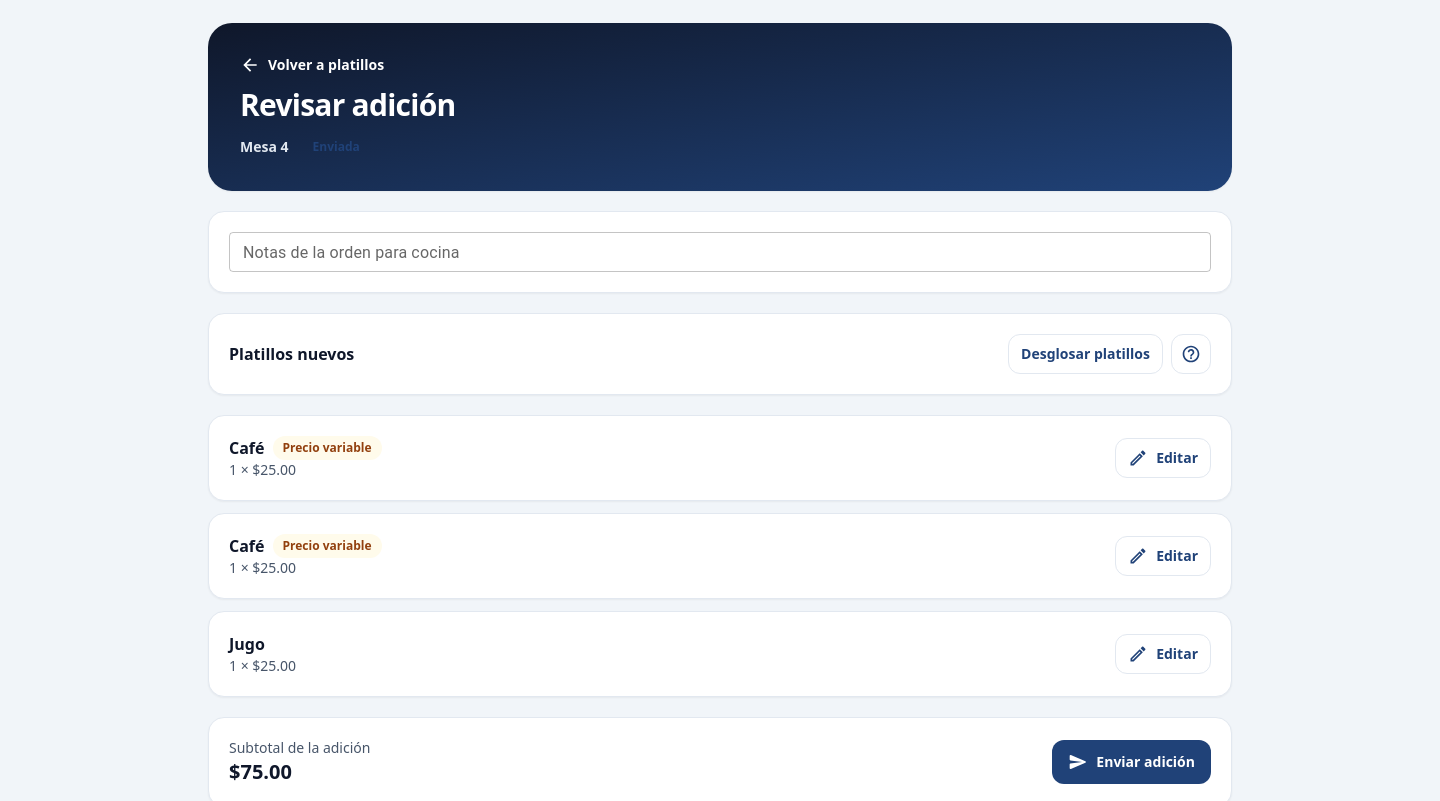
Scenario: preserves added dishes and their submission ID across review, back navigation and a retry
Earlier steps of the test are not shown.
Later steps or results of the test are not shown.
Check: the text "Precio variable" is shown 2 times, box [272,436,382,460]; [272,534,382,558]
Click the button "Desglosar platillos" at (1086, 354), box [1008,334,1163,374]
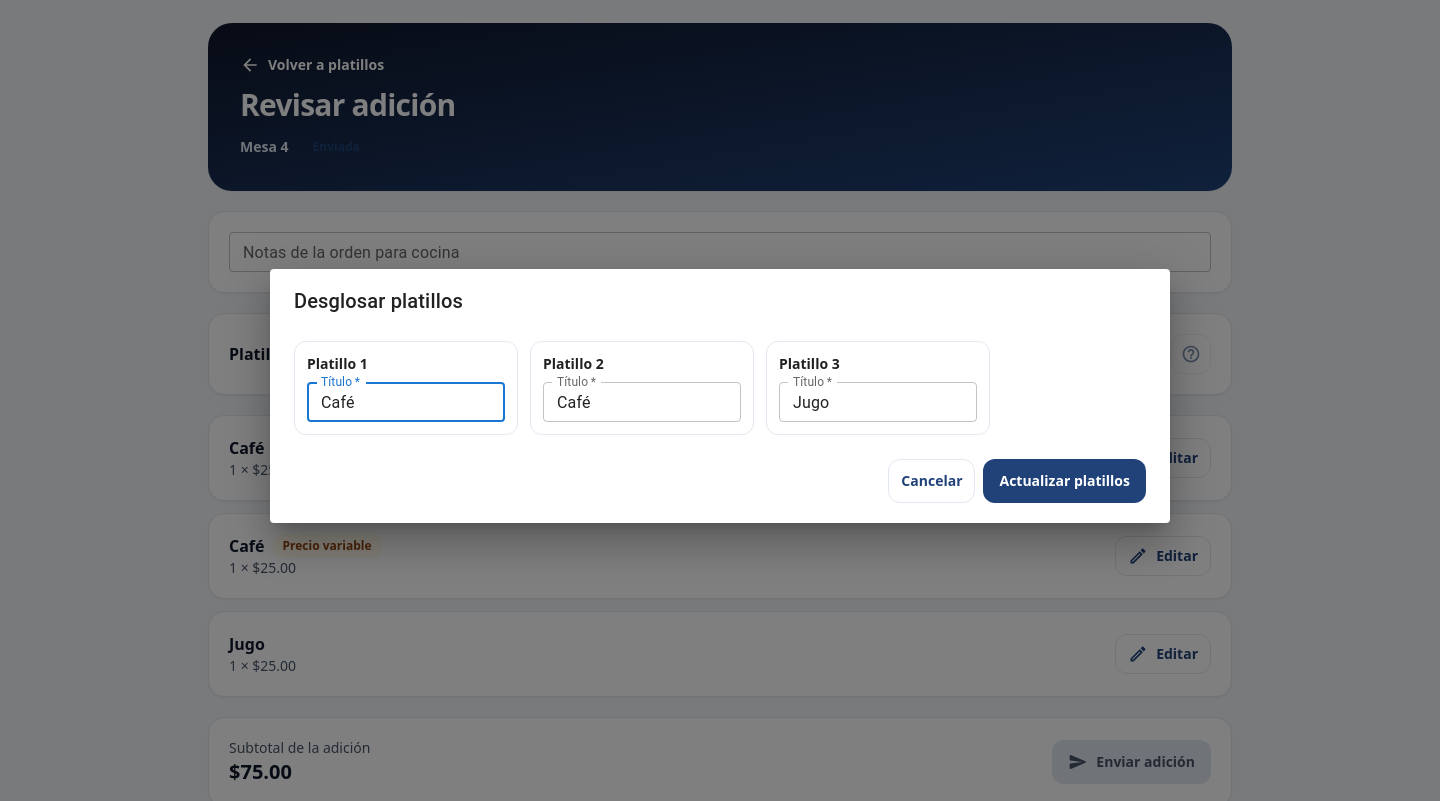
Check: the number of fields labelled "Título" is 3
Replace the text in the field labelled "Título" below "Platillo 2" with "Café especial" at (642, 402), box [543,382,741,422]
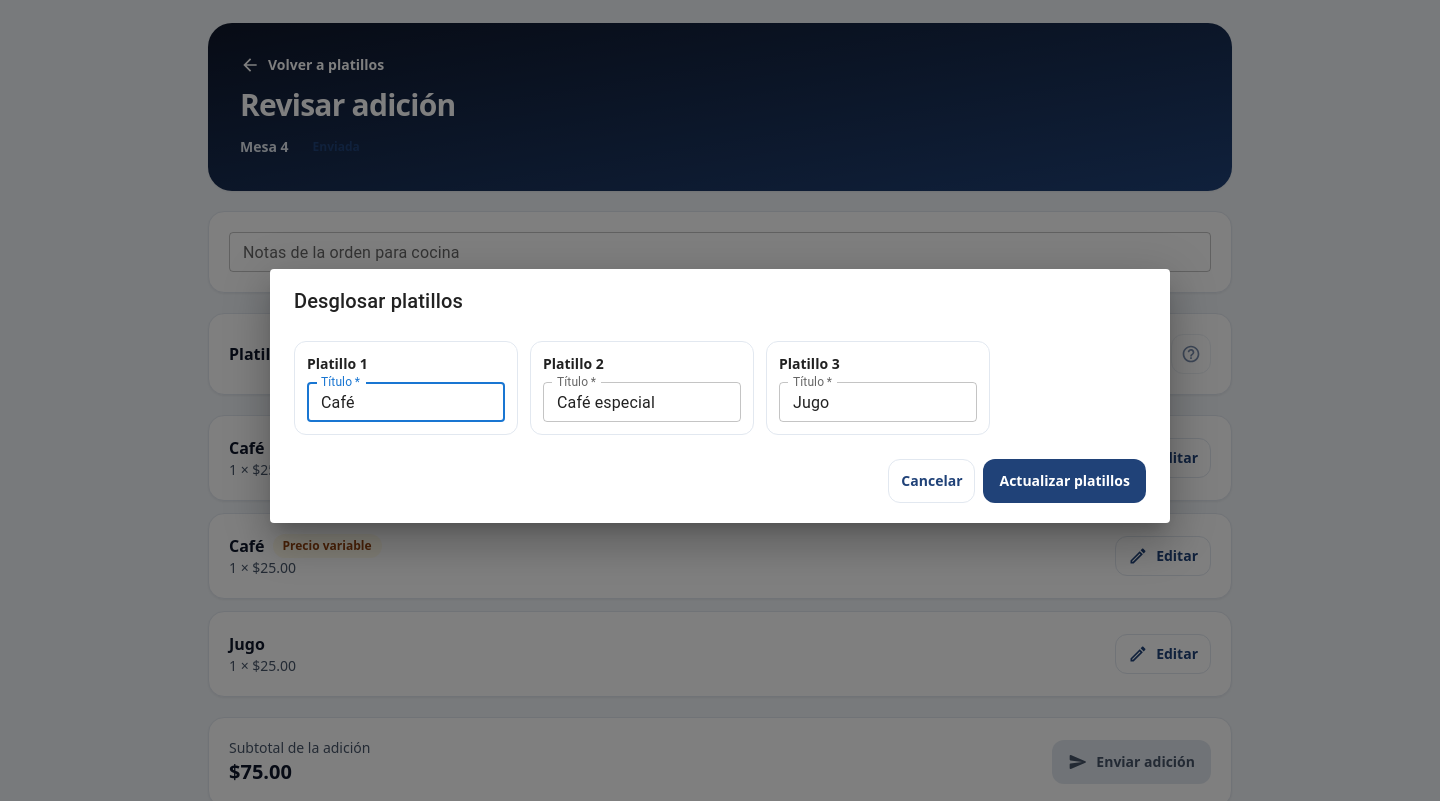
Click the button "Actualizar platillos" at (1065, 481), box [984,459,1146,503]
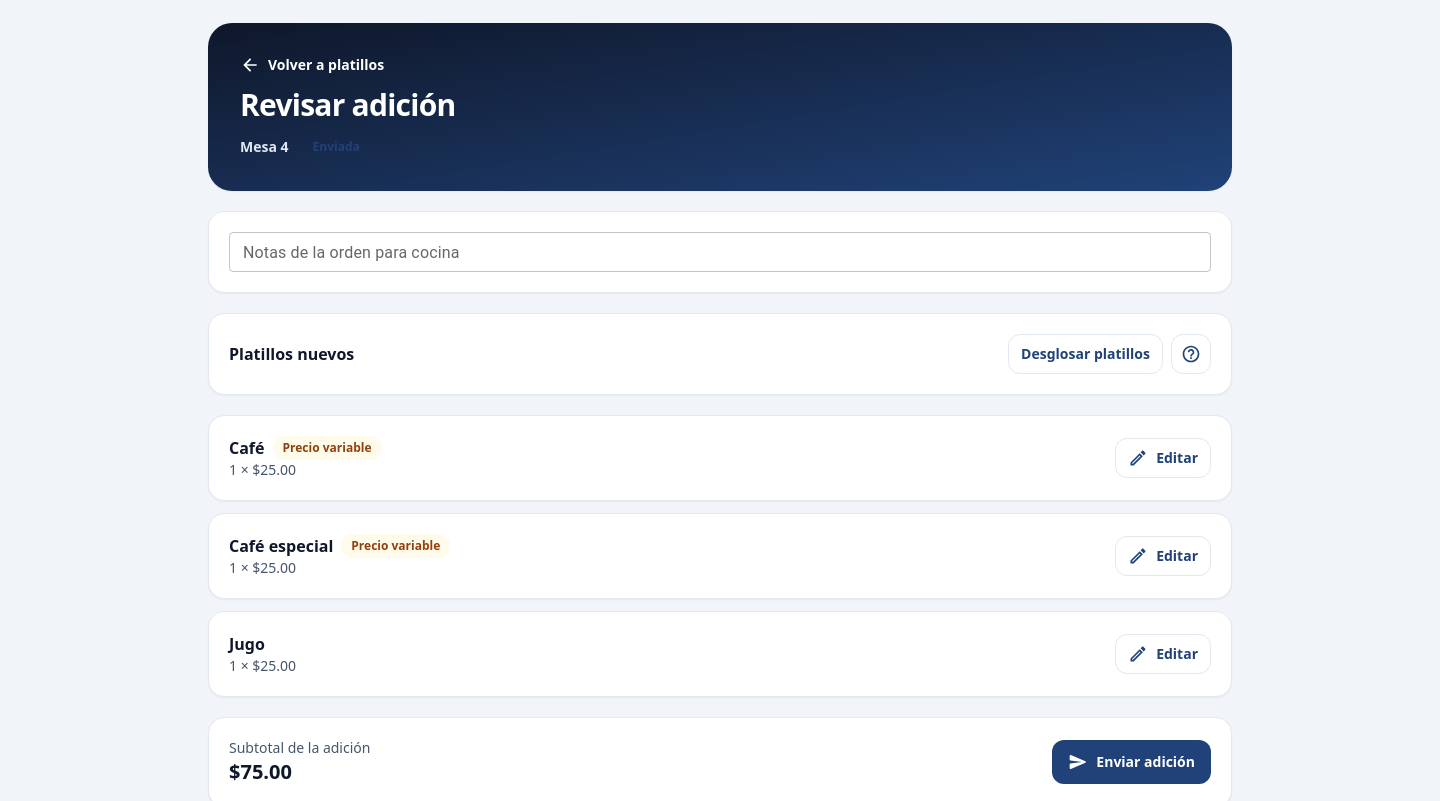
Check: the heading "Café especial" is shown, box [229,534,333,558]
Type " Sin azúcar " into the text box labelled "Notas de la orden para cocina" at (720, 252), box [243,240,1197,264]
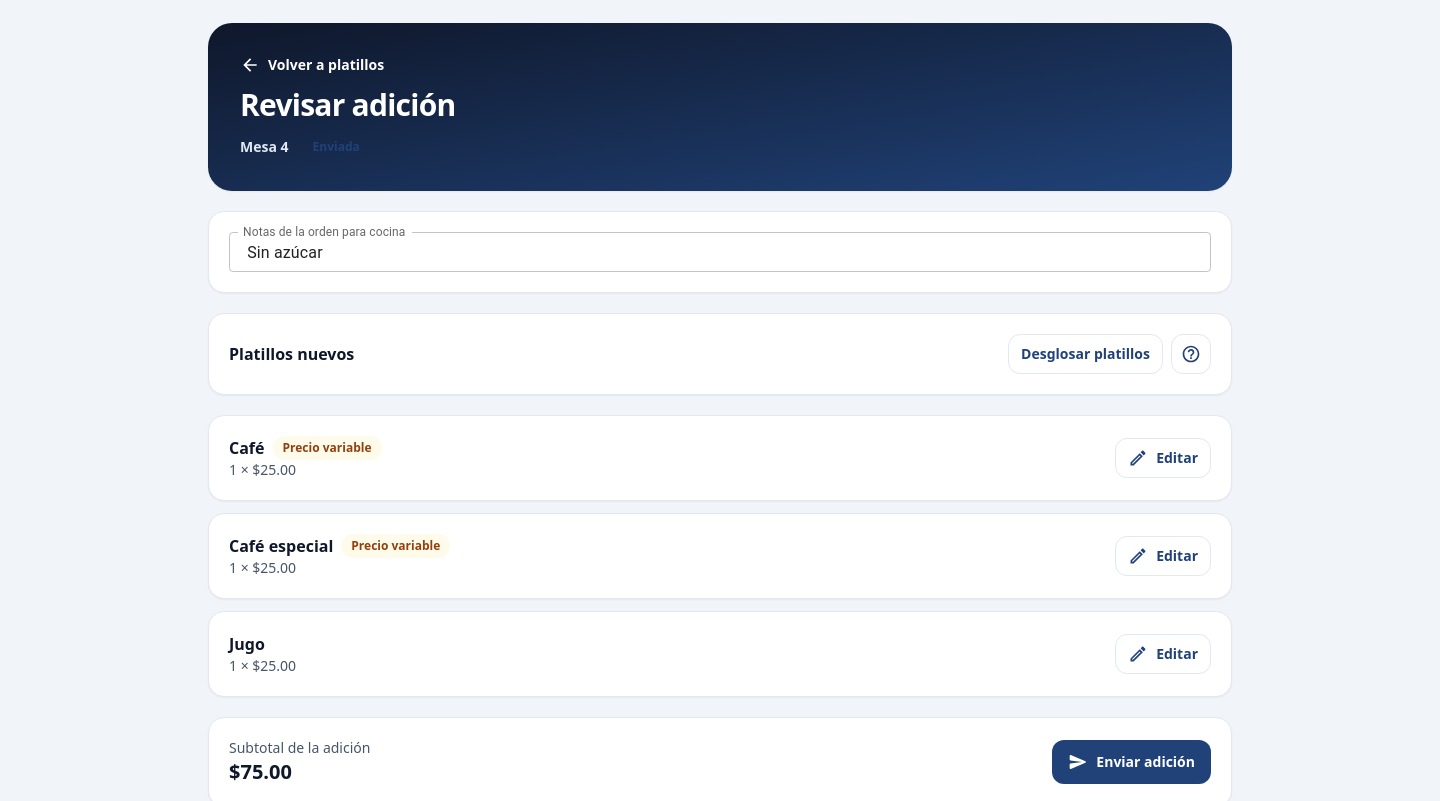
Click the button "Enviar adición" at (1132, 762), box [1052,740,1211,784]
(page scrolled)
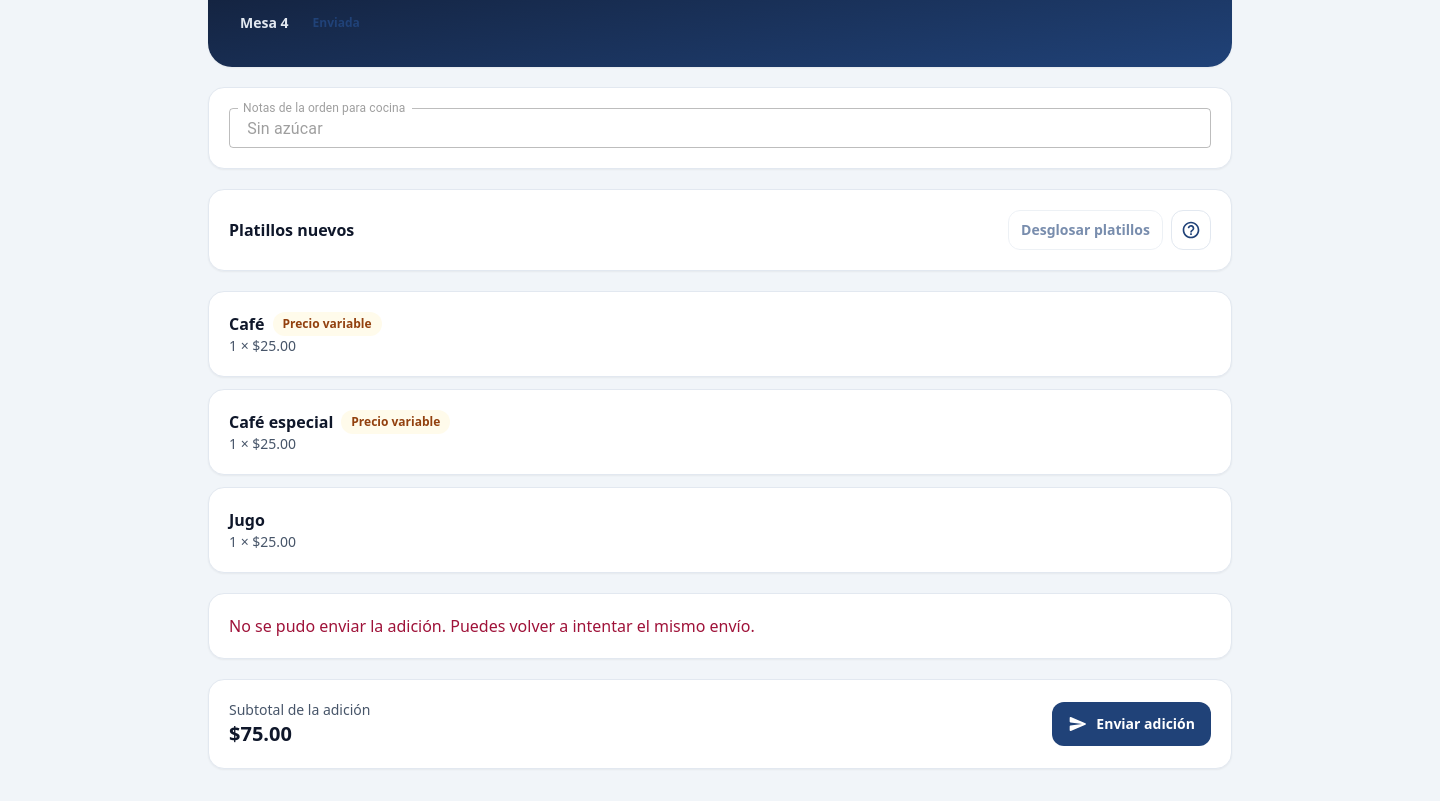
Check: the message shows "No se pudo enviar", box [229,615,755,637]
Check: the button "Desglosar platillos" is disabled, box [1008,210,1163,250]
